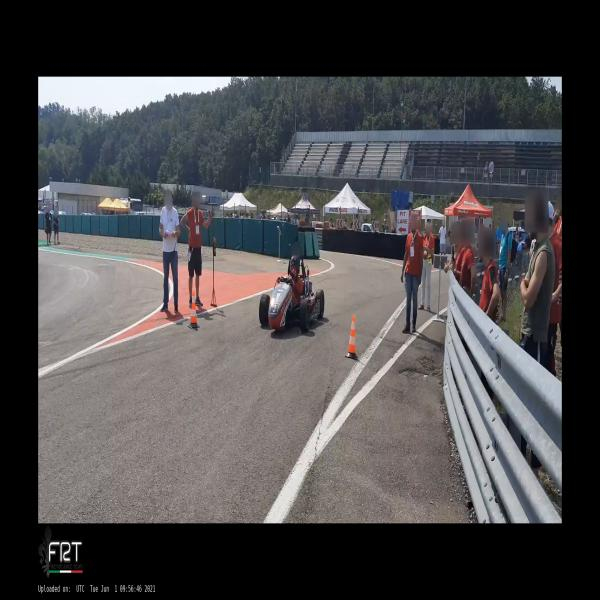large_orange_cone: (345, 314, 358, 360), (187, 291, 200, 328)
